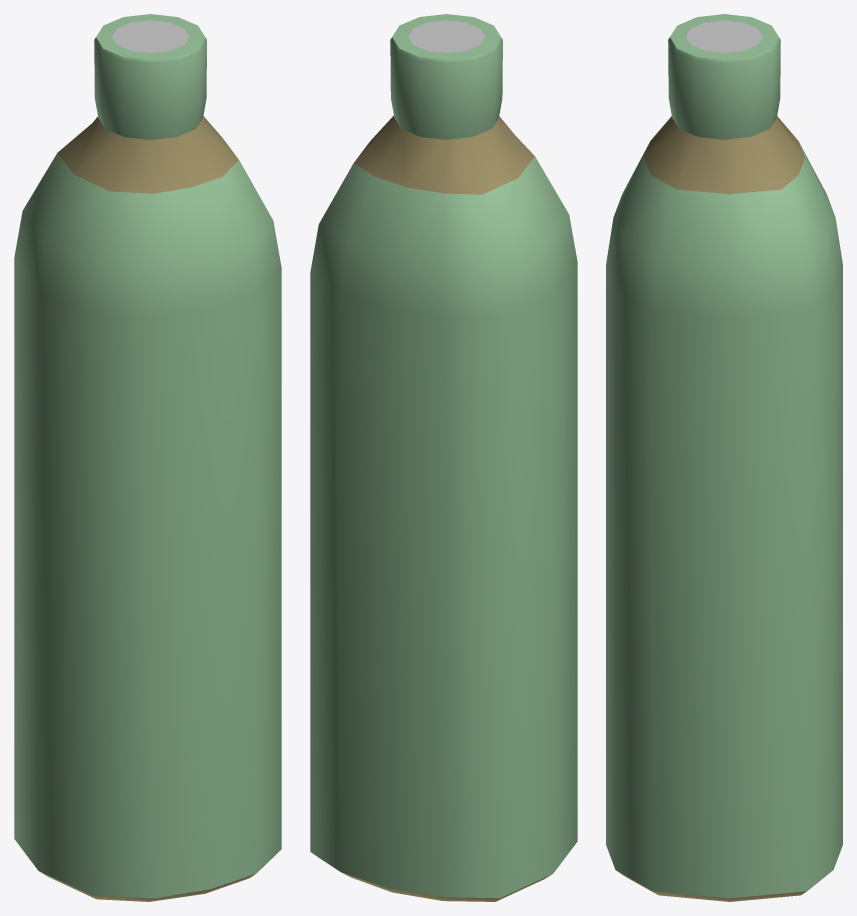
3 renders of one model, left to right at view 1: azimuth 30°, elevation 25°; view 2: azimuth 150°, elevation 25°; view 3: azimuth 270°, elevation 25°, orthographic.
Visible parts, largest first — view 1: YL0403; view 2: YL0403; view 3: YL0403.
Part boxes in pixels (bbox=[...]): YL0403: bbox=[14, 14, 281, 901]; YL0403: bbox=[310, 14, 577, 901]; YL0403: bbox=[606, 14, 842, 901].
Size of the model in its own units: 159 by 566 by 149.
